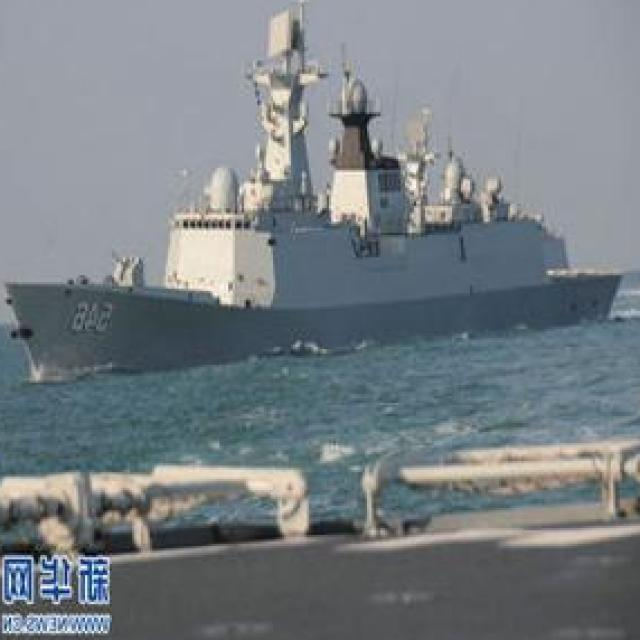navalvessels: (7, 0, 629, 378)
